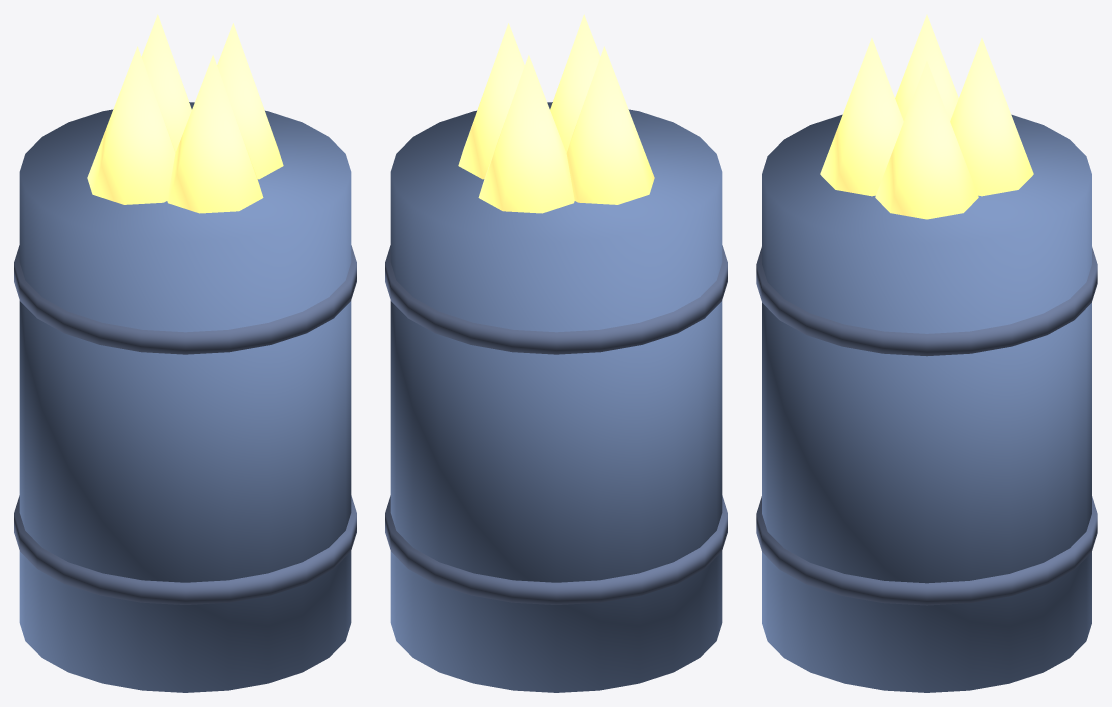
Rendered from barrel.glb.
3 views of the same model, side by side, from view 1: azimuth 30°, elevation 25°; view 2: azimuth 150°, elevation 25°; view 3: azimuth 270°, elevation 25° (orthographic).
Parts seen in each view (by area): view 1: barrel; view 2: barrel; view 3: barrel.
Boxes of the visible parts, x1,y1,x2,y2 form: barrel: (14, 14, 356, 692); barrel: (385, 14, 727, 692); barrel: (756, 14, 1097, 692).
Bounding box in the file's own units: 0.62 × 1.18 × 0.62.
